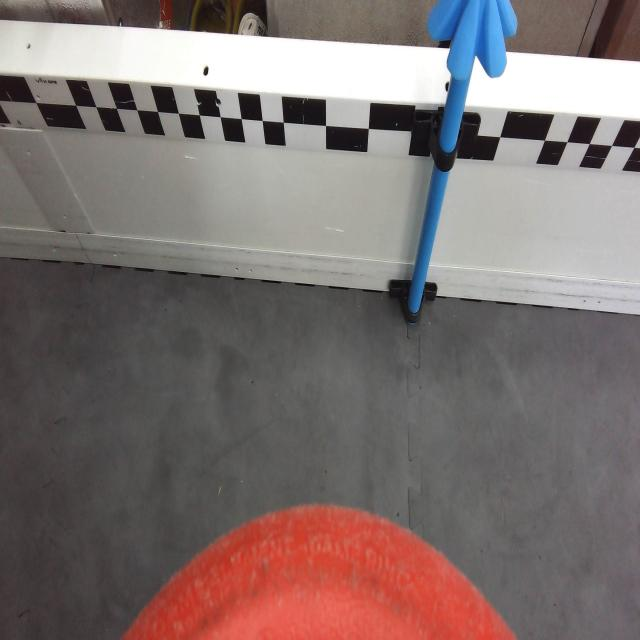zblue-Stake-Head: (429, 0, 517, 82)
